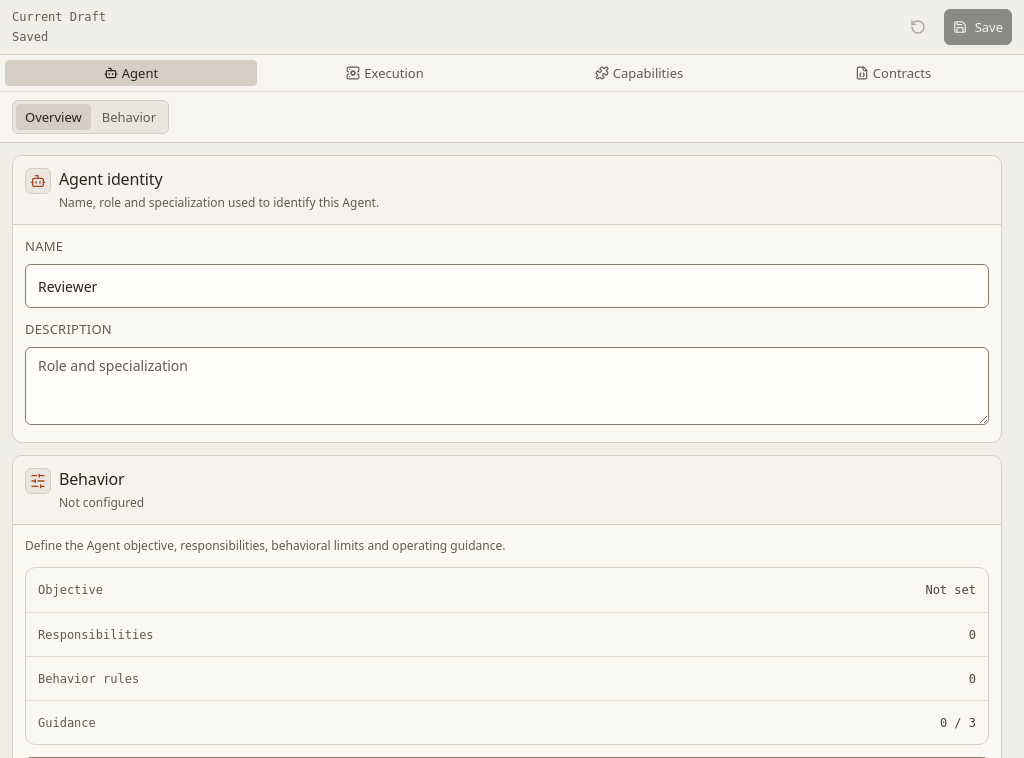
Test: Skills navigation regression › makes Skills visible and usable in the network editor
Click the button "Capabilities" at (639, 73), box x1=513 y1=60 x2=765 y2=86
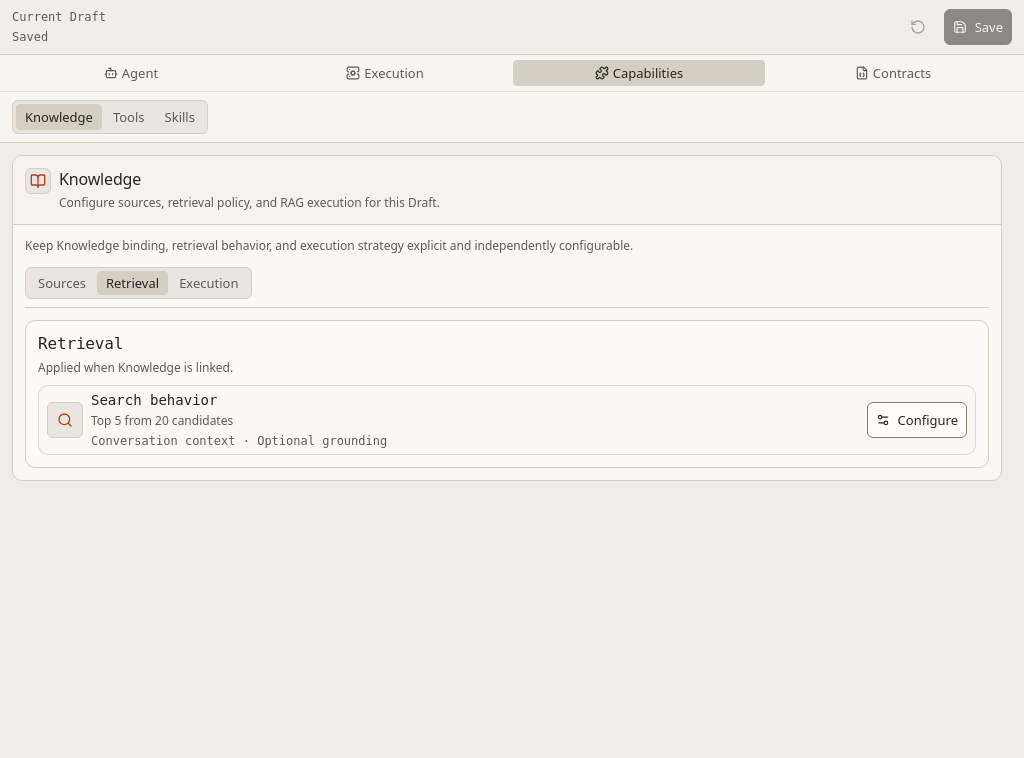
Click the button "Skills" at (180, 117), box x1=156 y1=104 x2=204 y2=130
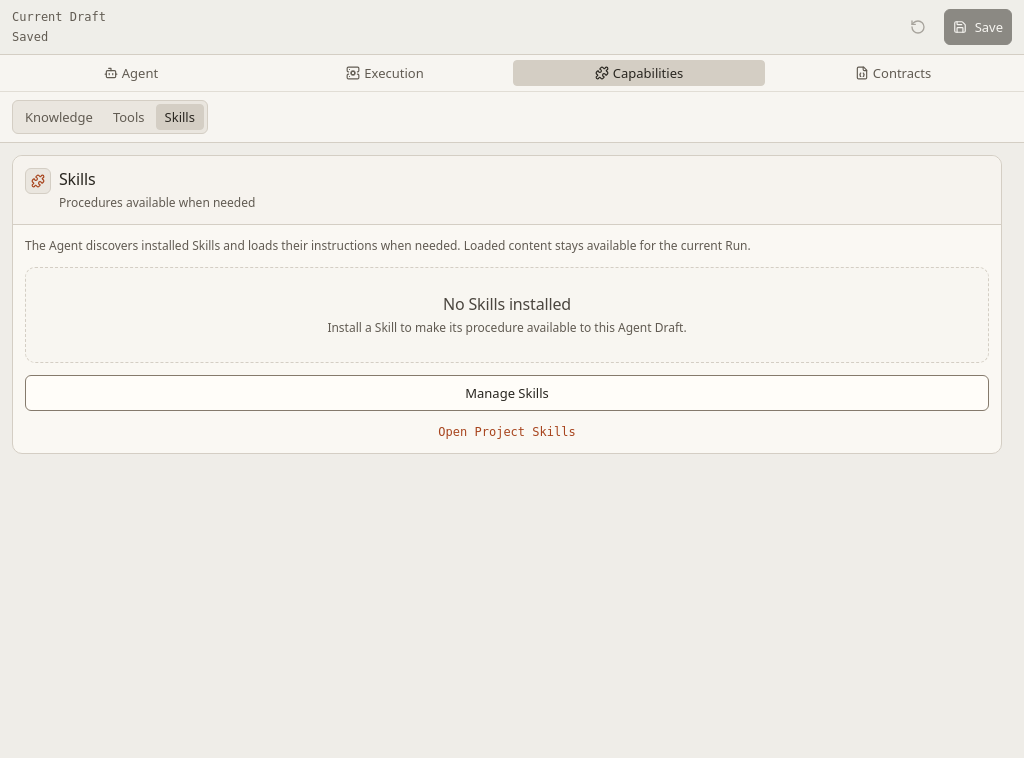
expect the element named "Installed Skills" is shown: met, box x1=12 y1=155 x2=1002 y2=454
Click the button "Manage Skills" at (507, 393), box x1=25 y1=375 x2=989 y2=411
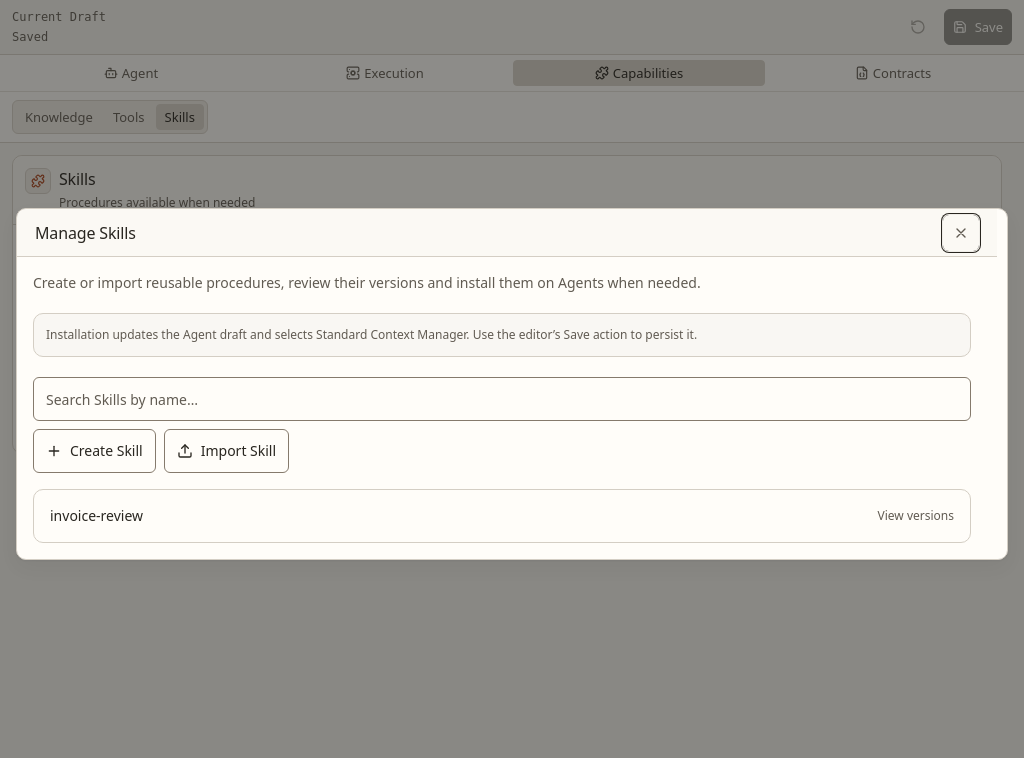
expect the text "invoice-review" is shown: met, box x1=50 y1=506 x2=143 y2=526
expect the button "Create Skill" is shown: met, box x1=33 y1=429 x2=156 y2=473
